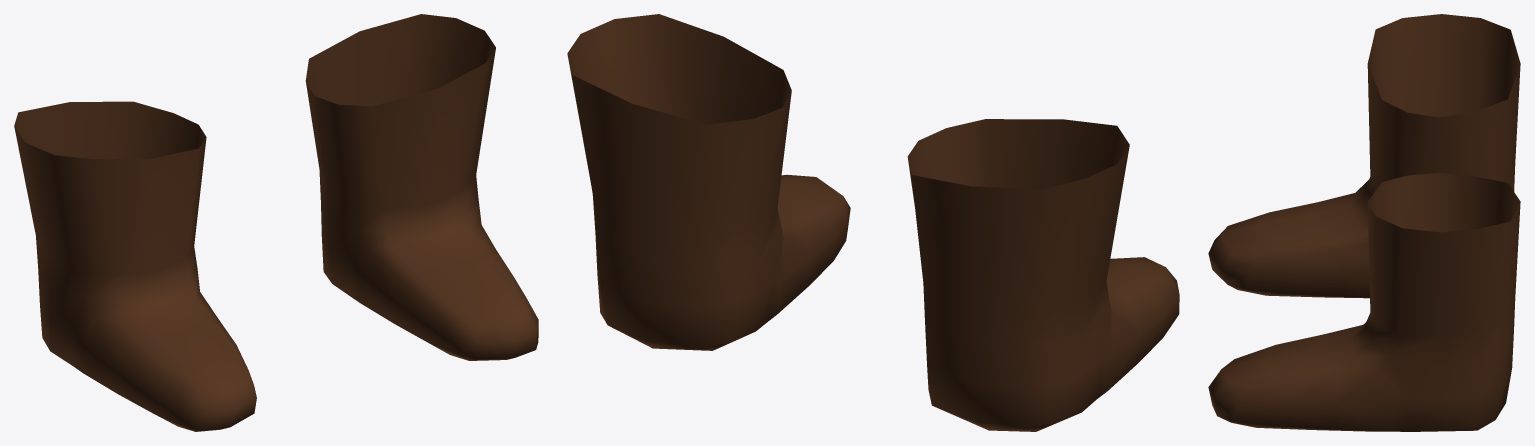
The model's file is Boots.fbx.
3 renders of one model, left to right at view 1: azimuth 30°, elevation 25°; view 2: azimuth 150°, elevation 25°; view 3: azimuth 270°, elevation 25°, orthographic. The views are drawn at different scales.
Visible parts, largest first — view 1: BootL, BootR; view 2: BootL, BootR; view 3: BootL, BootR.
Part boxes in pixels (bbox=[...]): BootL: bbox=[305, 14, 538, 360]; BootR: bbox=[14, 101, 256, 431]; BootL: bbox=[567, 14, 850, 350]; BootR: bbox=[907, 119, 1179, 431]; BootL: bbox=[1208, 173, 1520, 431]; BootR: bbox=[1208, 14, 1520, 298].
Bounding box in the file's own units: 3.67 × 1.78 × 2.22.
